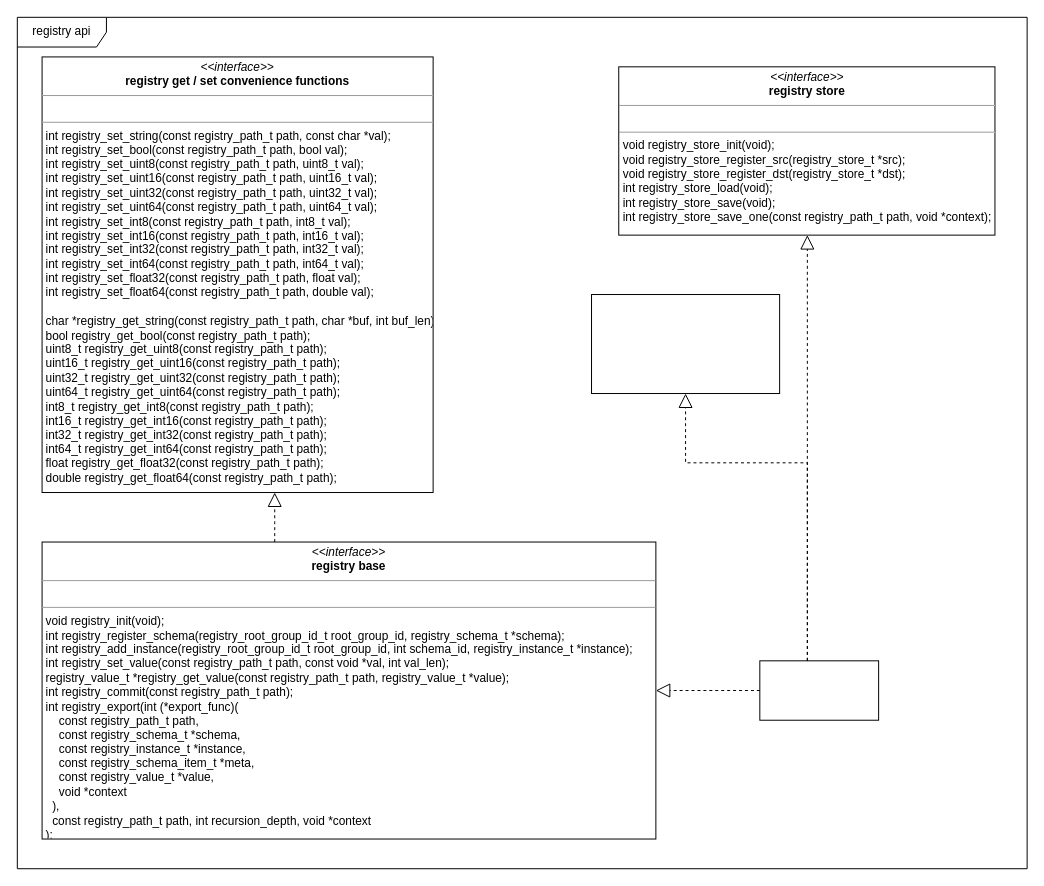
Some shapes in this 1044 by 886 pixel diagram are drawn without their labels. Each missing label, with the centre of its shape:
<<interface>> registry schemas void registry_schemas_init(void);: pixel 685 344
registry: pixel 819 690
